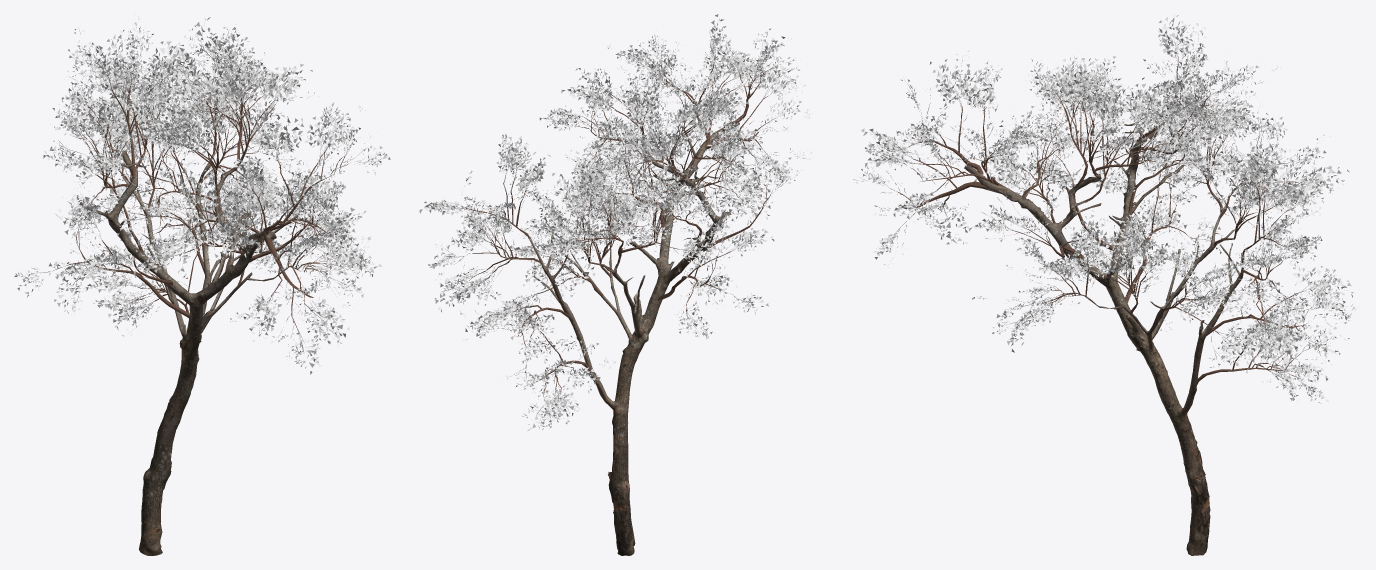
File: TreeSmall_LOD1.fbx
The picture shows the model from 3 angles, left to right: view 1: azimuth 30°, elevation 25°; view 2: azimuth 150°, elevation 25°; view 3: azimuth 270°, elevation 25°; orthographic projection. The views are drawn at different scales.
Parts seen in each view (by area): view 1: TreeSmall_LOD1; view 2: TreeSmall_LOD1; view 3: TreeSmall_LOD1.
Boxes of the visible parts, <box> form: TreeSmall_LOD1: <box>14,14,390,555</box>; TreeSmall_LOD1: <box>419,14,813,555</box>; TreeSmall_LOD1: <box>853,15,1356,555</box>.
Size of the model in its own units: 2.89 by 4.55 by 4.24.
